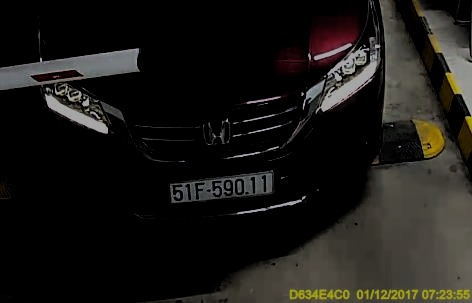plate: (170, 174, 277, 201)
